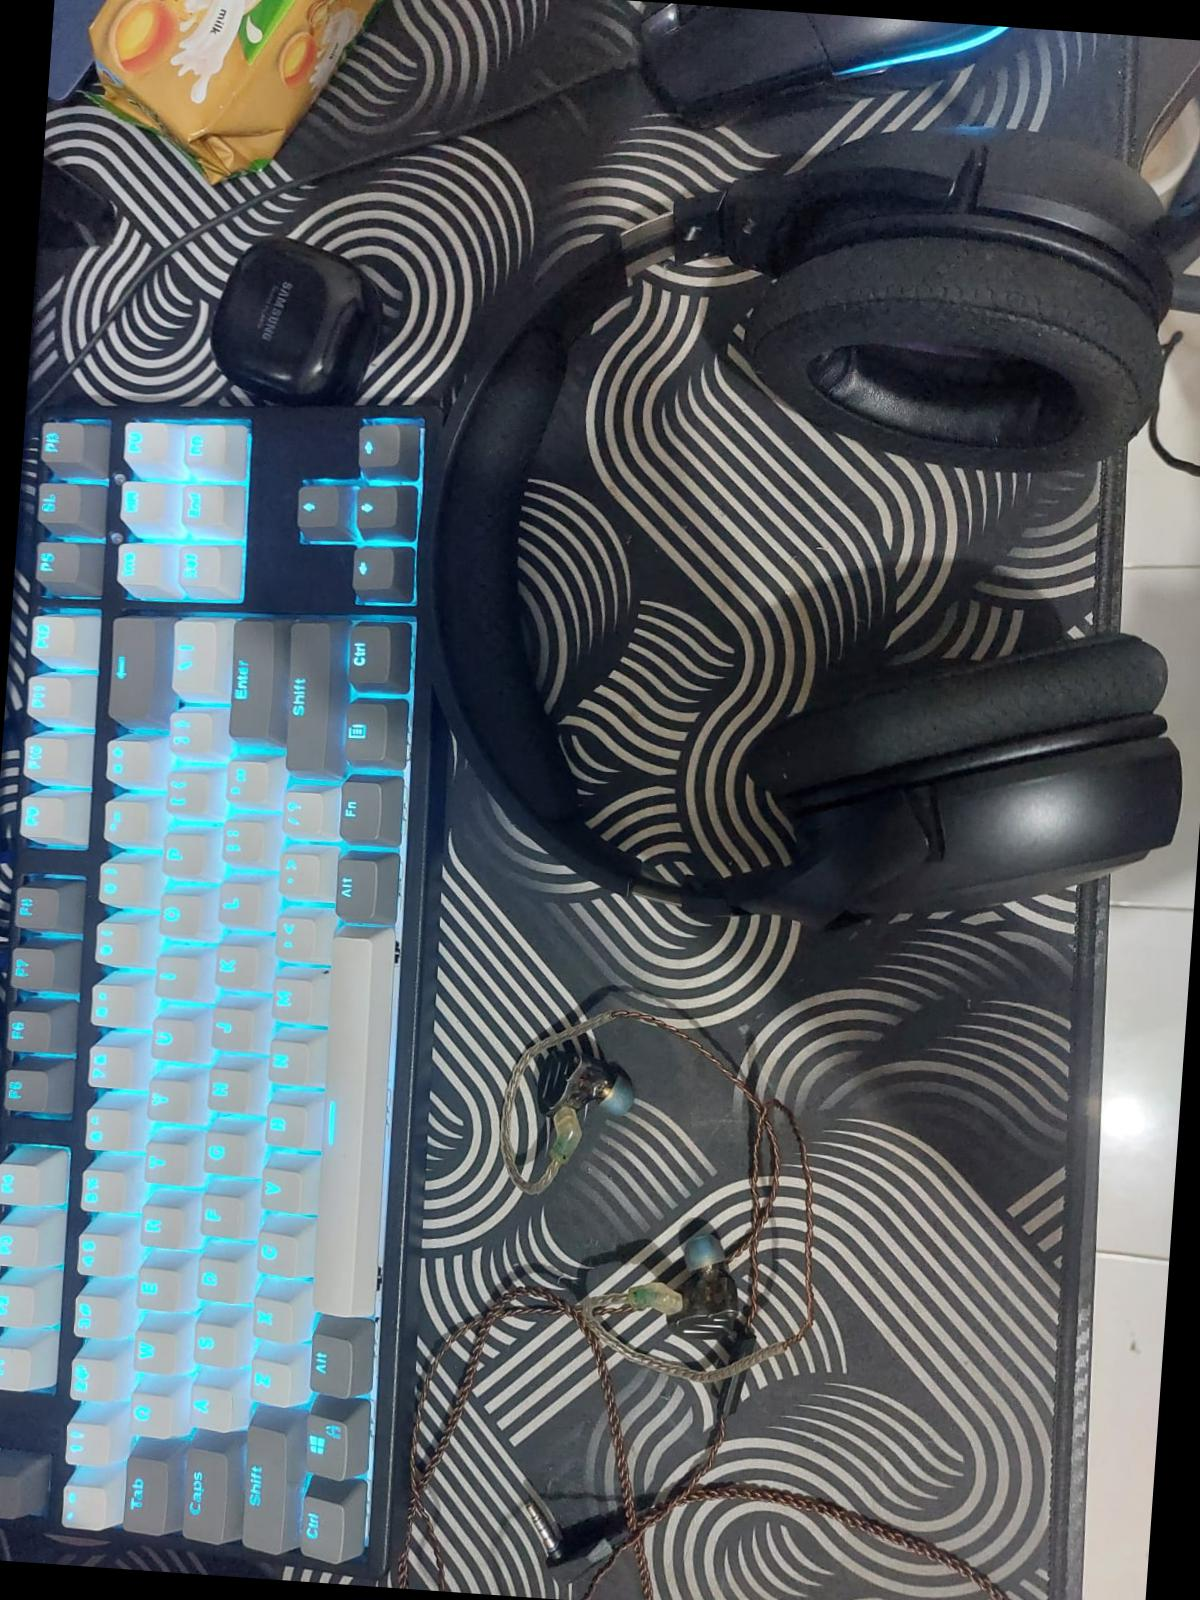Earphone: (621, 1212, 746, 1347), (524, 1034, 640, 1170)
Headset: (391, 67, 1199, 975)
